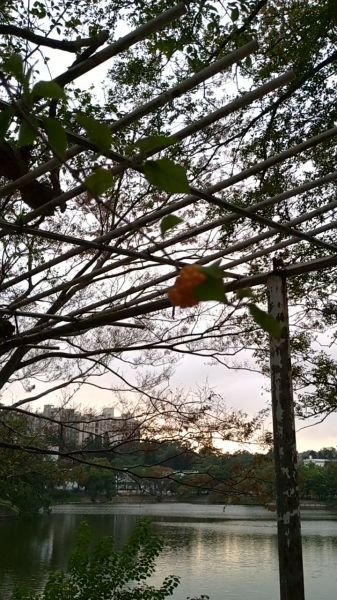eggs: (163, 261, 219, 314)
